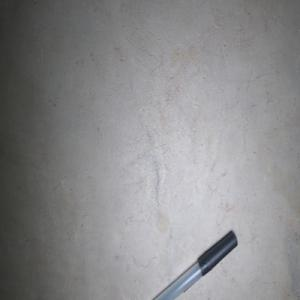Pen: (153, 230, 237, 300)
